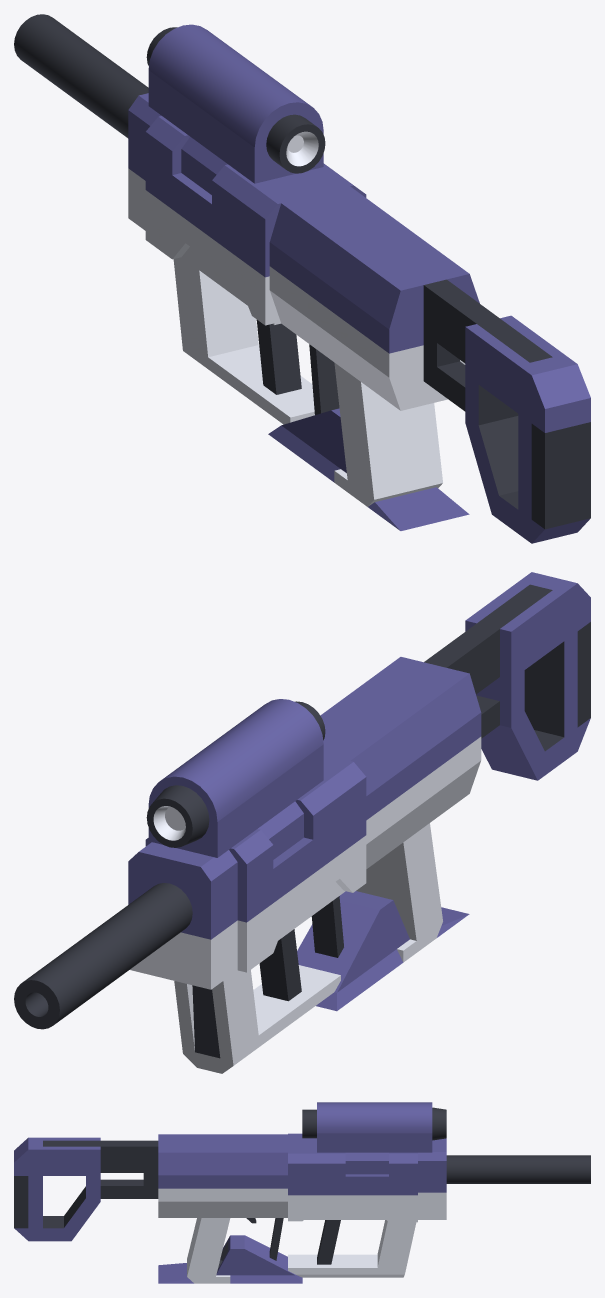
Rendered from Gun.glb.
3 renders of one model, top to bottom at view 1: azimuth 30°, elevation 25°; view 2: azimuth 150°, elevation 25°; view 3: azimuth 270°, elevation 25°, orthographic. The views are drawn at different scales.
Visible parts, largest first — view 1: mergedBlocks(Clone); view 2: mergedBlocks(Clone); view 3: mergedBlocks(Clone).
Boxes of the visible parts, x1,y1,x2,y2 form: mergedBlocks(Clone): (14, 14, 590, 543); mergedBlocks(Clone): (14, 572, 590, 1073); mergedBlocks(Clone): (14, 1102, 590, 1283).
Bounding box in the file's own units: 0.088 × 0.26 × 0.8.
